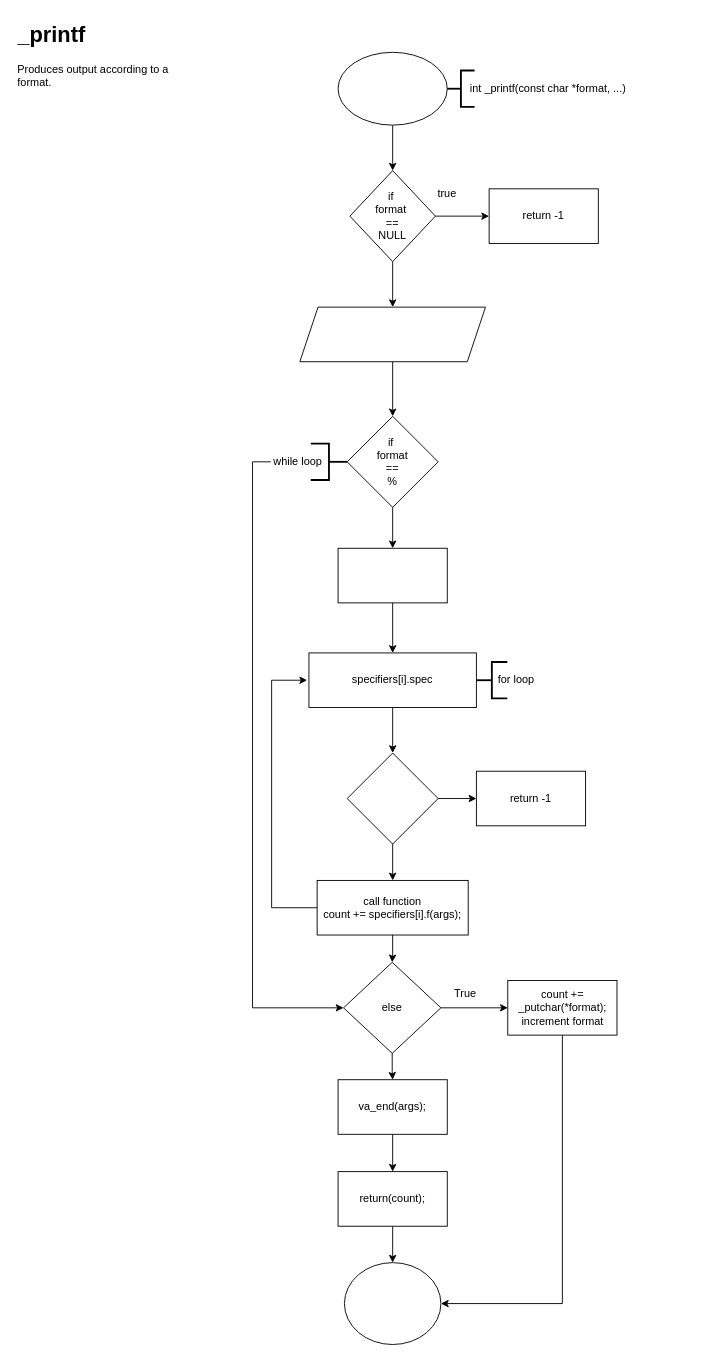
Image size: 704x1360. Some labels were removed from this diagram. Each missing label, with the centre of its shape:
End: [392,1303]
if format == specifiers: [392,798]
increment format: [392,575]
int count = 0 initialize specifiers va_start args,format: [392,334]
Start: [392,88]
